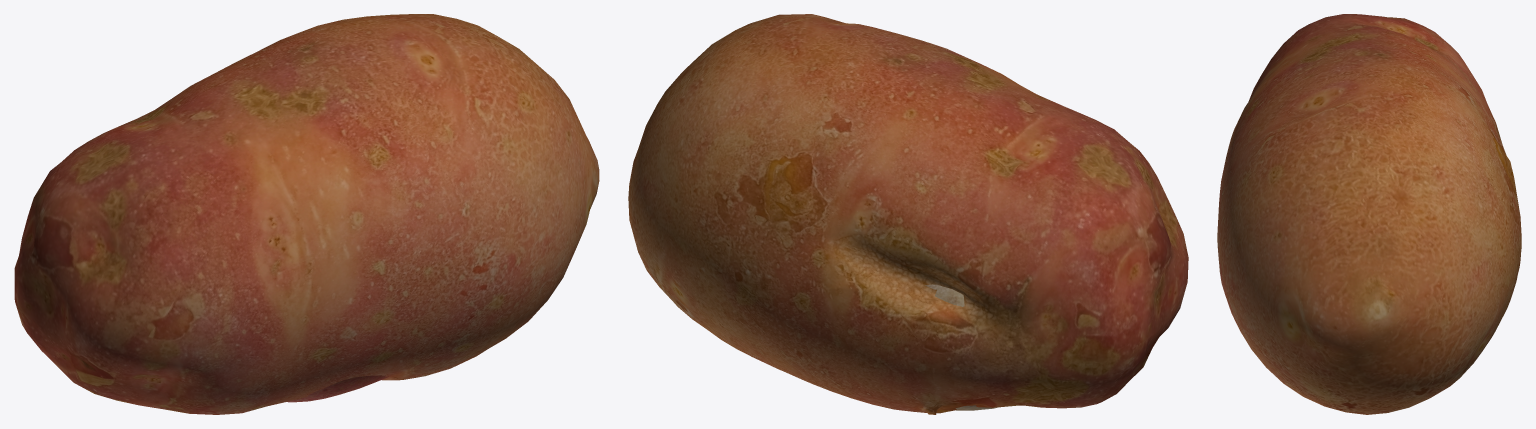
The model's file is kiri_pomme_de_terre.gltf.
The picture shows the model from 3 angles, left to right: view 1: azimuth 30°, elevation 25°; view 2: azimuth 150°, elevation 25°; view 3: azimuth 270°, elevation 25°; orthographic projection. The views are drawn at different scales.
Parts seen in each view (by area): view 1: A36_Potato, A19_Potato; view 2: A36_Potato, A23_Potato; view 3: A36_Potato.
Part boxes in pixels (x1,y1,x2,y2): A36_Potato: [14, 14, 599, 414]; A19_Potato: [287, 375, 390, 402]; A36_Potato: [628, 14, 1188, 414]; A23_Potato: [925, 284, 997, 410]; A36_Potato: [1217, 14, 1521, 414].
Bounding box in the file's own units: 0.1462 × 0.0881 × 0.0779.
Materials: 5 (5 with a texture image).
